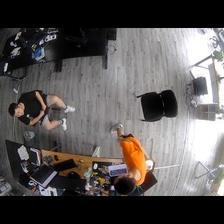normal: (105, 121, 151, 191), (9, 89, 74, 134)
